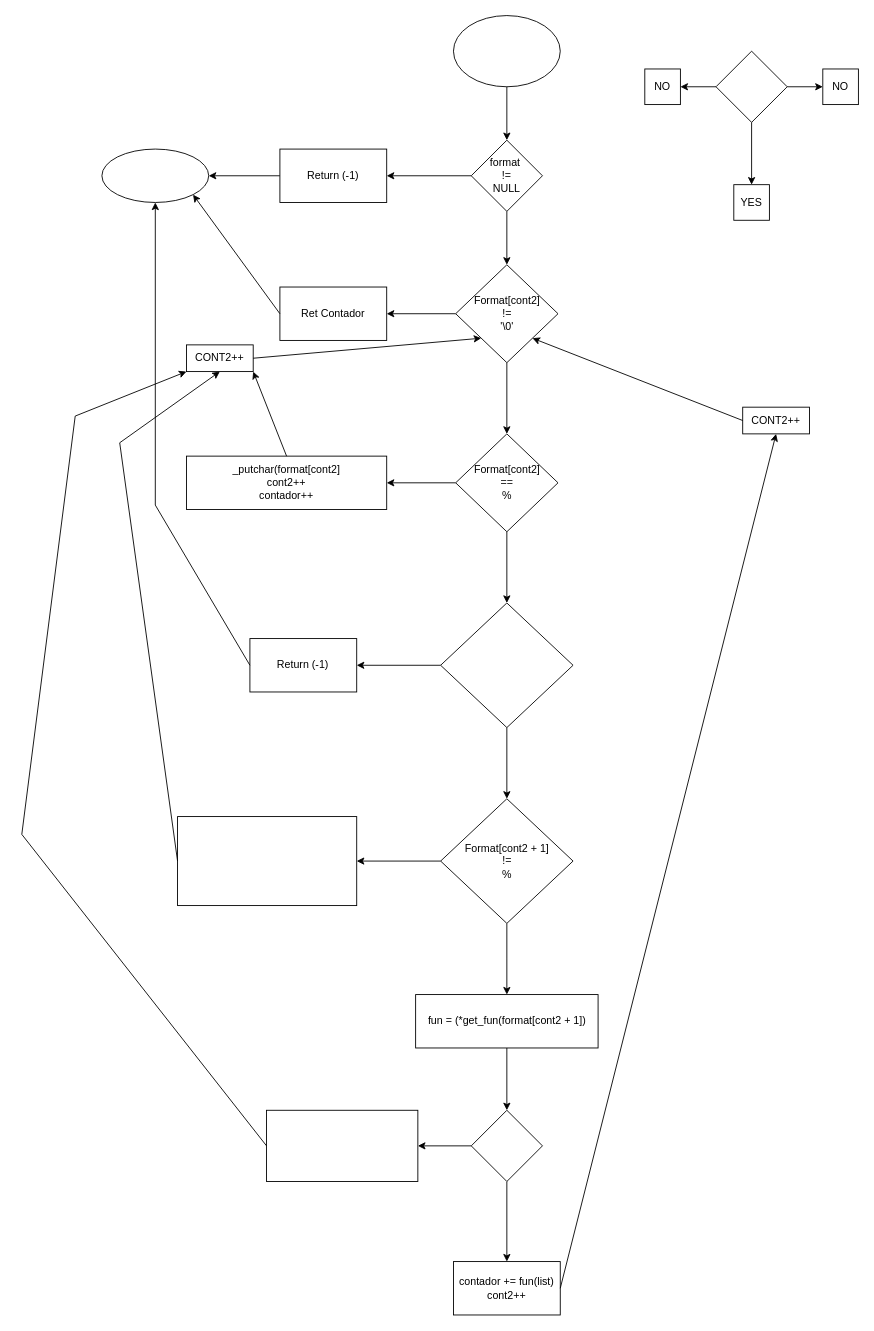
Some shapes in this 874 by 1331 pixel diagram are drawn without their labels. Each missing label, with the centre of its shape:
_putchar(format[cont2 + 1]) cont2++ contador++: point (267, 861)
_putchar(format[cont2] contador++: point (342, 1145)
END: point (155, 175)
Format[cont2 + 1] != '\0': point (506, 665)
fun != NULL: point (506, 1145)
QUESTION: point (751, 86)
START: point (506, 51)
